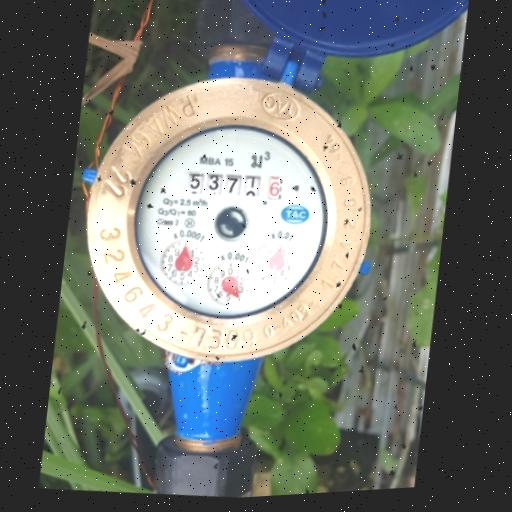1: (245, 175, 261, 198)
3: (206, 173, 223, 196)
5: (187, 173, 204, 195)
6: (267, 175, 283, 200)
7: (226, 174, 241, 197)
border_water_meter_number: (184, 165, 285, 206)
